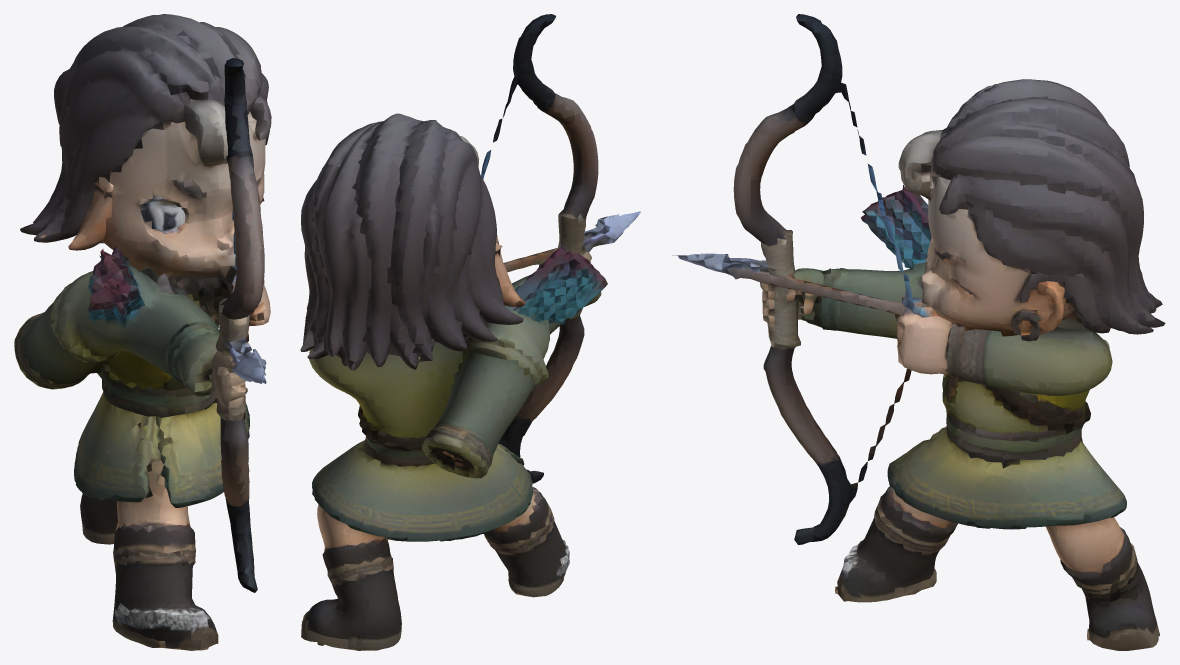
File: harijilagen.glb
The picture shows the model from 3 angles, left to right: view 1: azimuth 30°, elevation 25°; view 2: azimuth 150°, elevation 25°; view 3: azimuth 270°, elevation 25°; orthographic projection. The views are drawn at different scales.
Bounding box in the file's own units: 1.16 × 2.7 × 2.07.
Materials: 1 (1 with a texture image).
